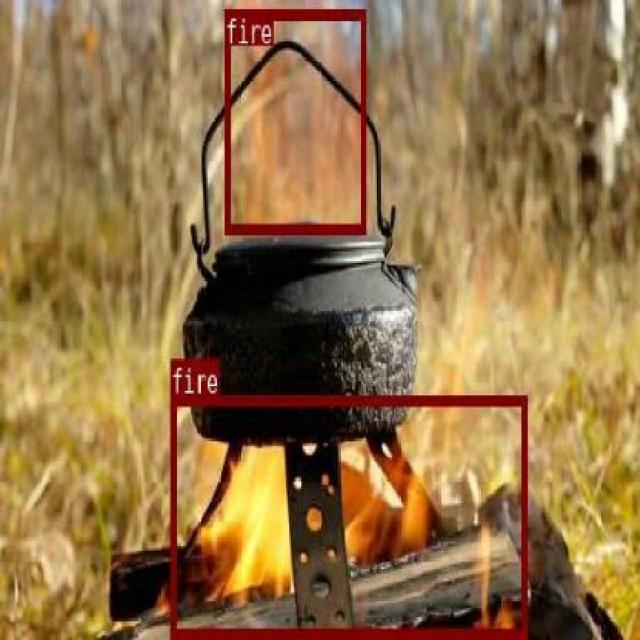fire: (170, 394, 526, 636), (224, 8, 366, 232)
